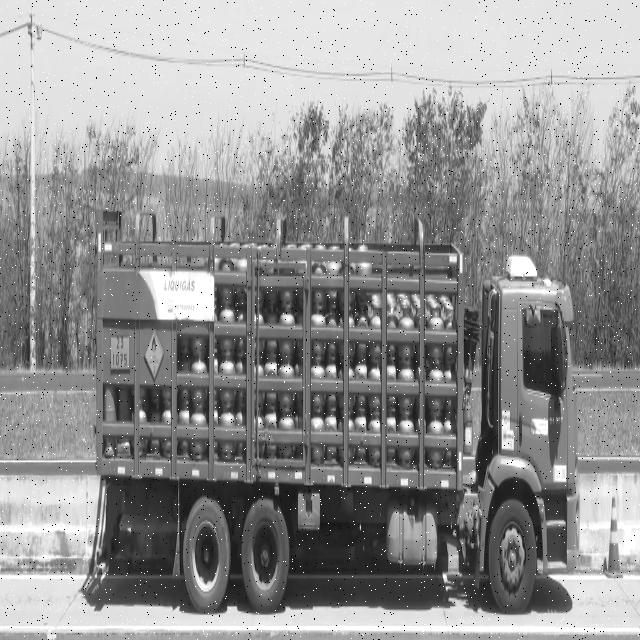-axle: (240, 498, 290, 614), (488, 496, 537, 611), (184, 499, 231, 611)
